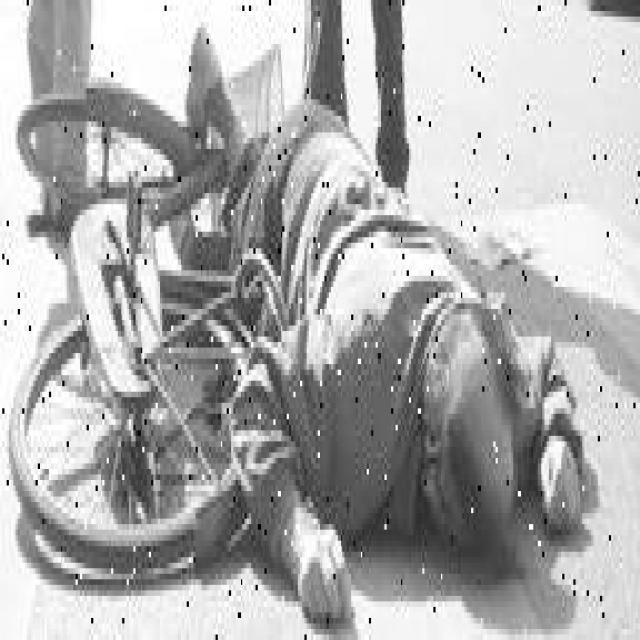fall: (231, 66, 589, 574)
